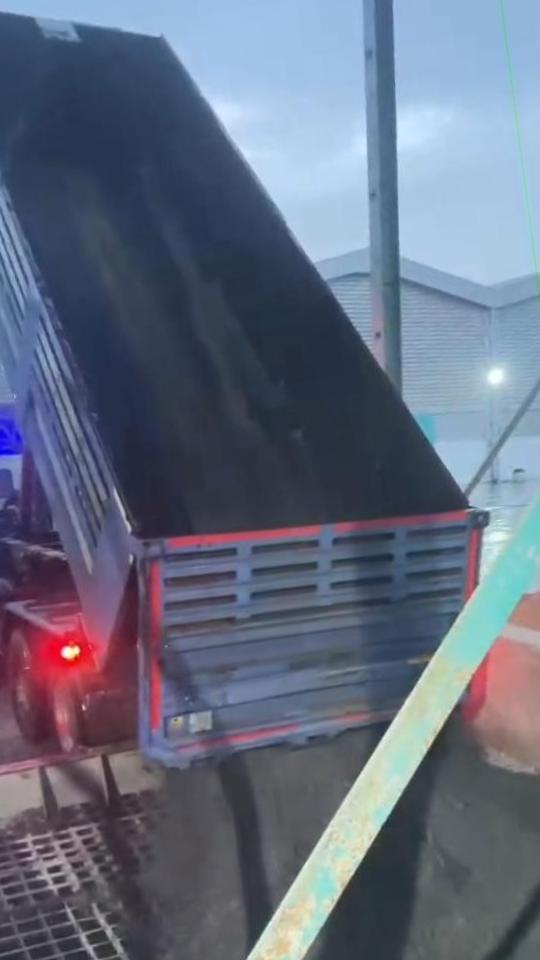gravel: (0, 126, 185, 537), (280, 711, 540, 960), (143, 730, 381, 960), (123, 168, 280, 447)
